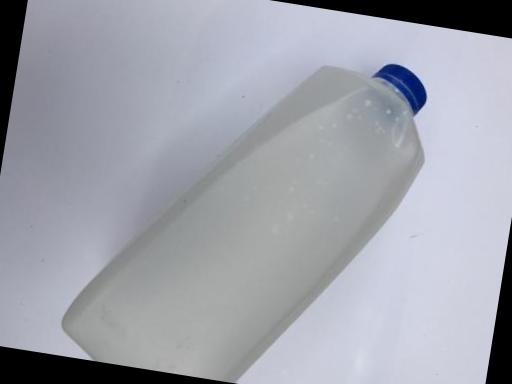plastic: (26, 0, 477, 384)
